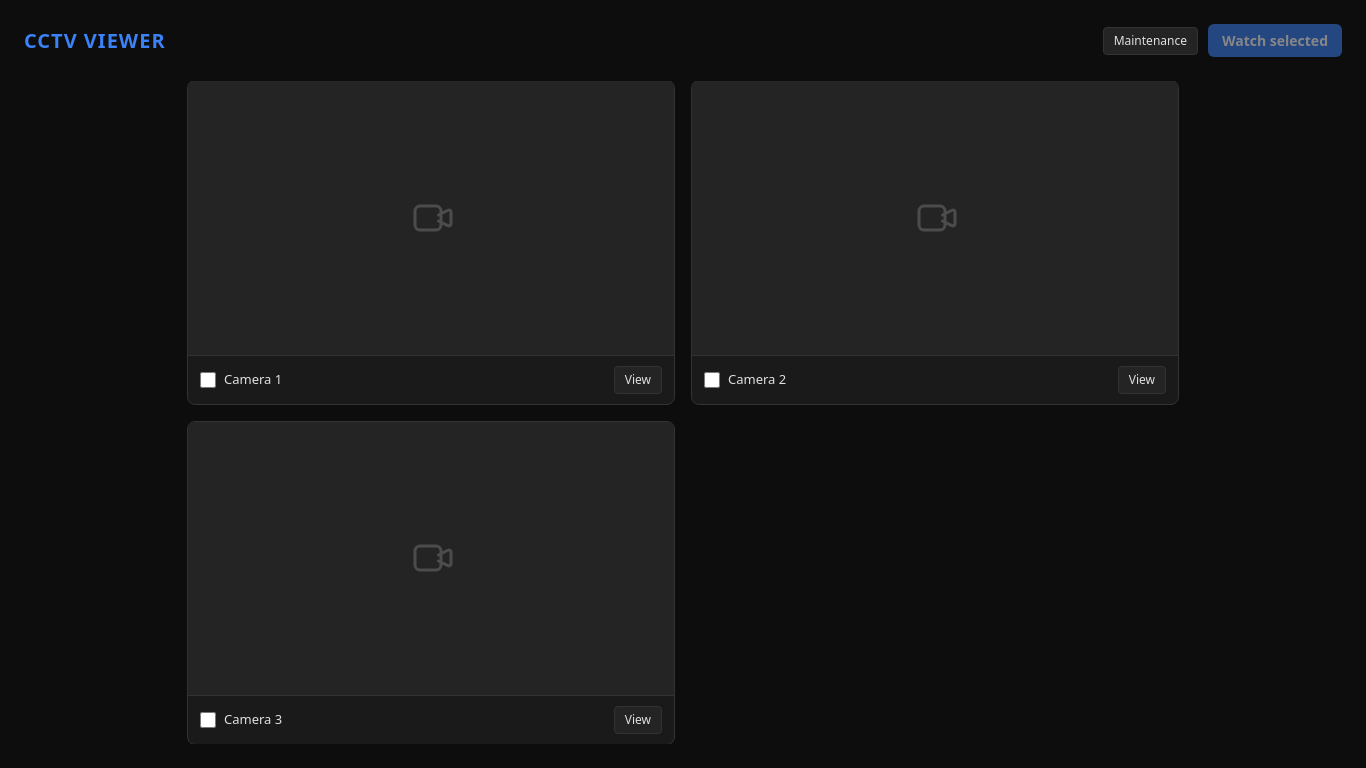
CameraGrid — AC-1: multi-select › deselecting removes camera from selection
Click the checkbox named "Select for multi-camera playback" next to "Camera 1". click: (208, 380)
box: [200, 372, 216, 388]
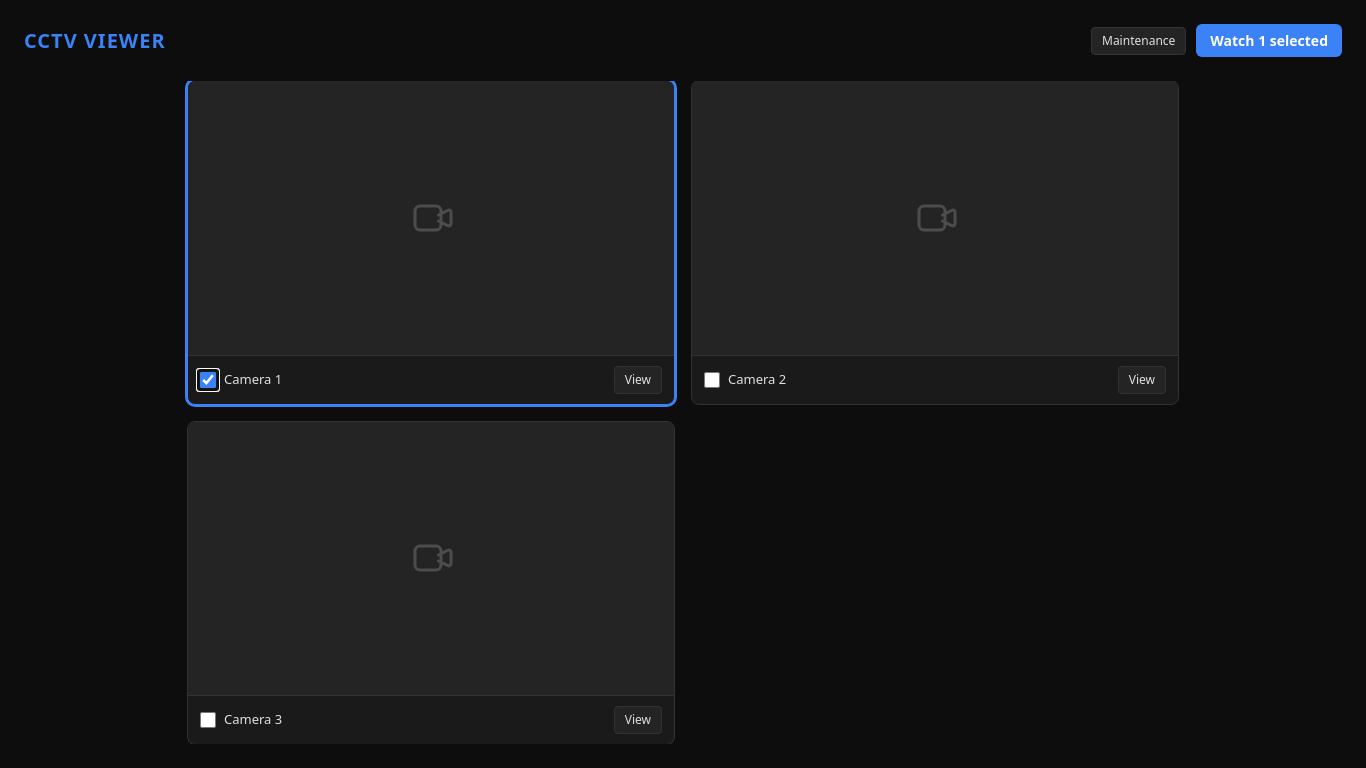
Click the checkbox named "Select for multi-camera playback" next to "Camera 1". click: (208, 380)
box: [200, 372, 216, 388]
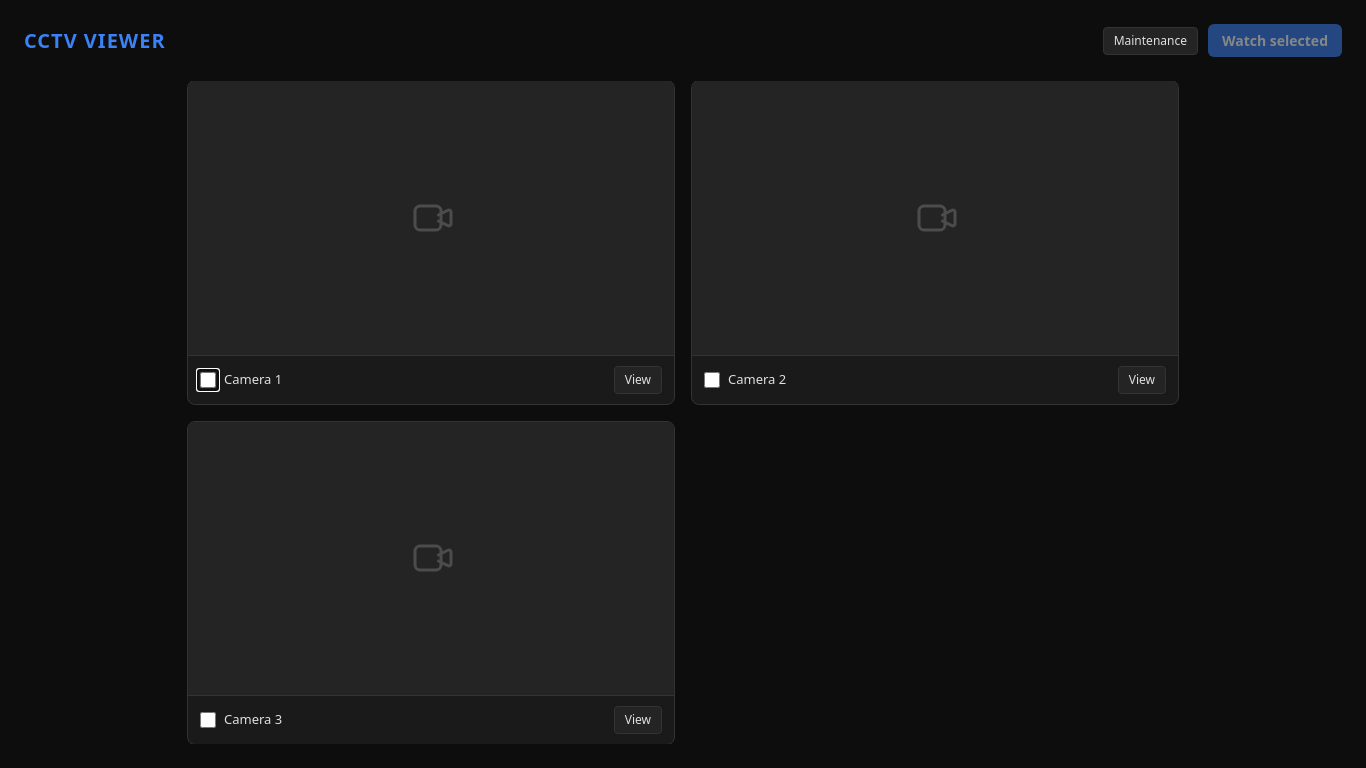
Now the button "Watch selected" is disabled, box [1208, 24, 1342, 57]
